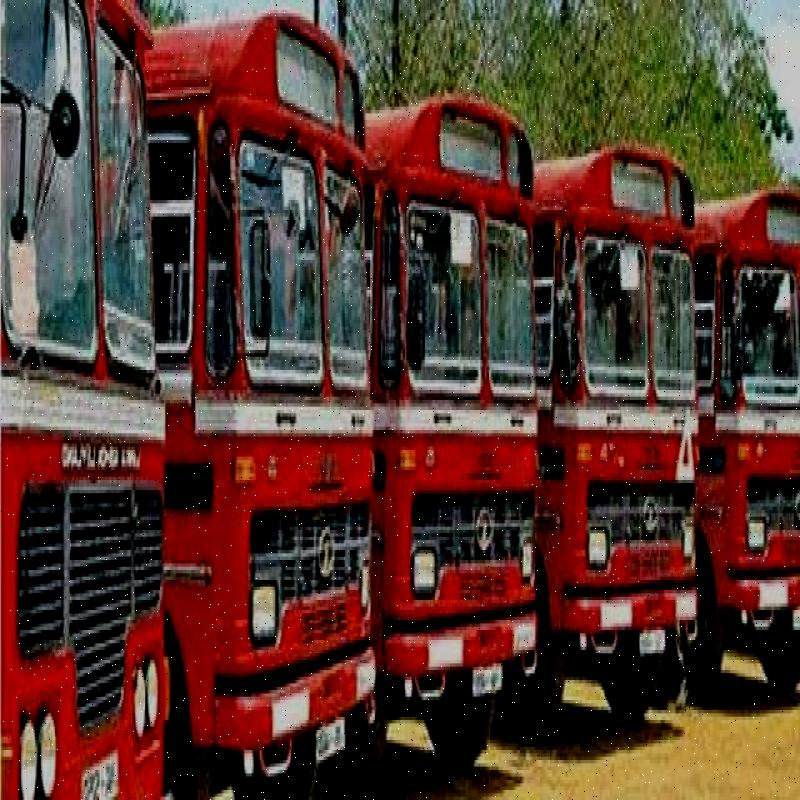bus: (0, 0, 161, 800), (207, 32, 360, 784), (366, 77, 539, 724), (543, 109, 700, 662), (700, 105, 794, 715)
